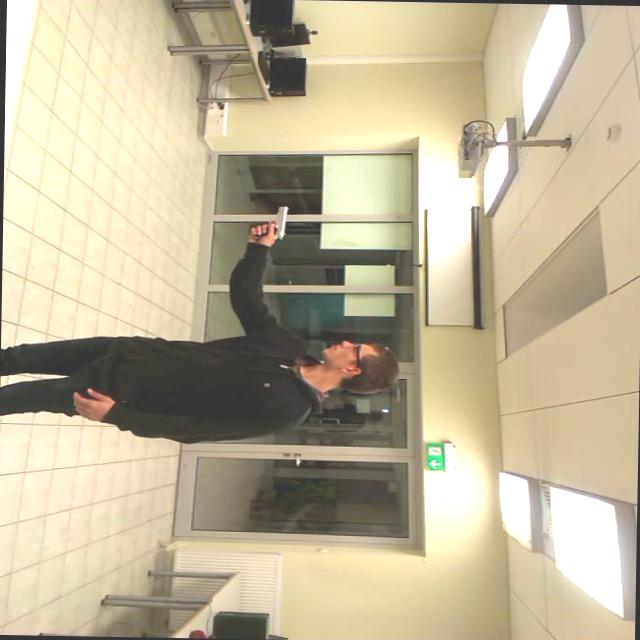handgun: (231, 197, 300, 250)
